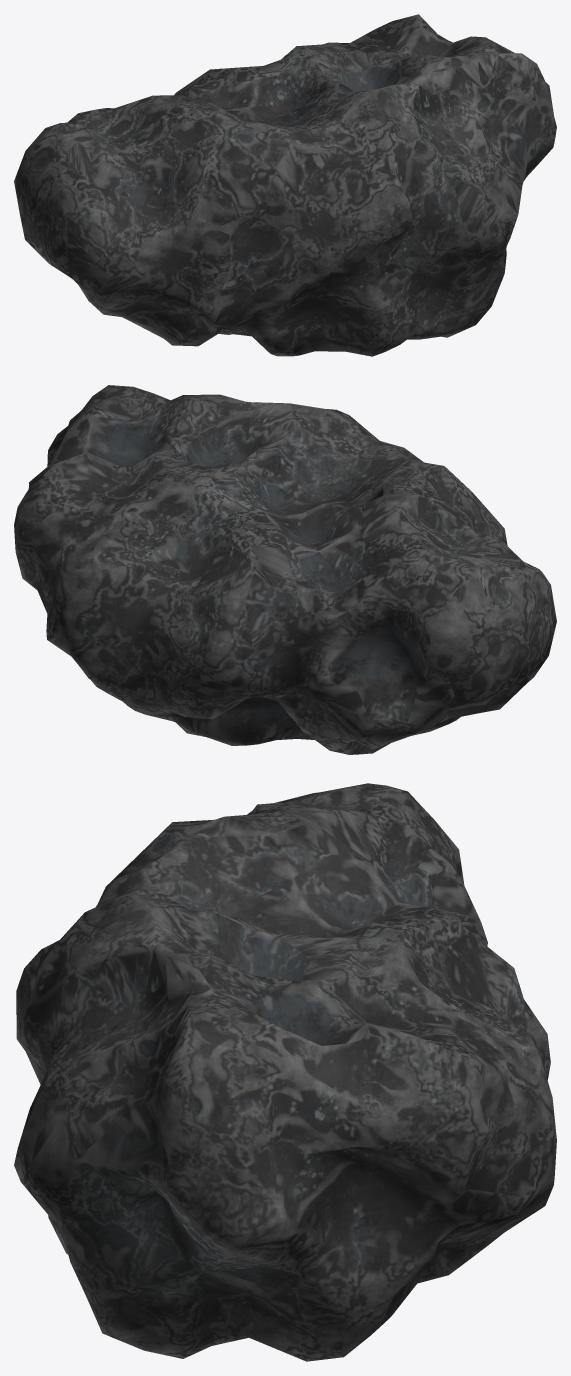
File: Asteroid_1e.obj
3 views of the same model, one above another, from view 1: azimuth 30°, elevation 25°; view 2: azimuth 150°, elevation 25°; view 3: azimuth 270°, elevation 25° (orthographic). The views are drawn at different scales.
Visible parts, largest first — view 1: Asteroid_1e; view 2: Asteroid_1e; view 3: Asteroid_1e.
Part boxes in pixels (left/top/right/bottom): Asteroid_1e: left=14, top=14, right=556, bottom=356; Asteroid_1e: left=14, top=385, right=556, bottom=754; Asteroid_1e: left=14, top=783, right=556, bottom=1361.
Size of the model in its own units: 4.34 by 2.3 by 2.82.
1 material, 1 textured.
